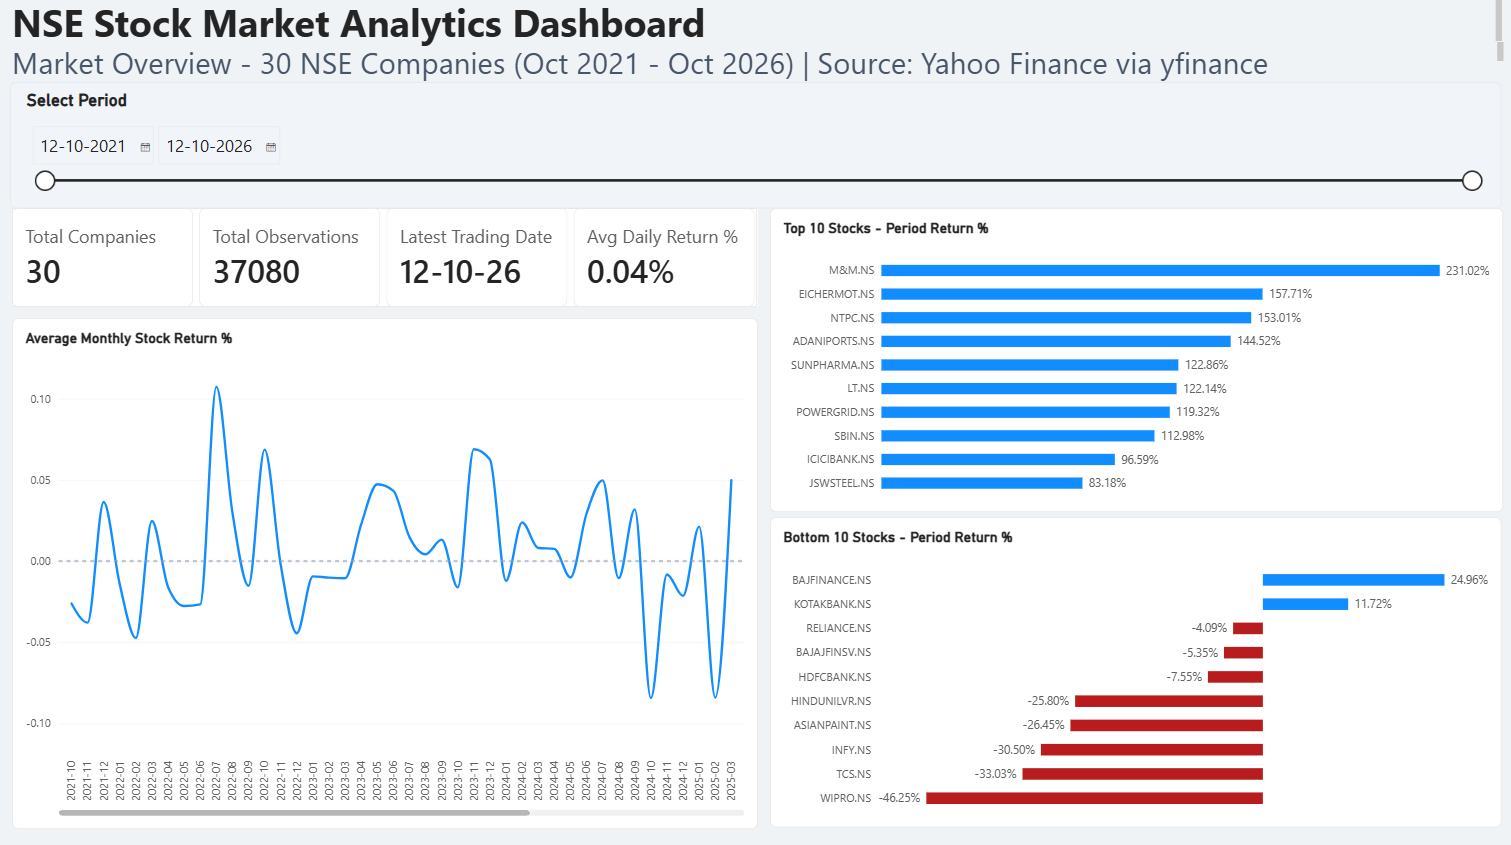

What the dashboard file says about the page in this screenshot:
{"tool":"powerbi","page":{"name":"Market Overview","canvas":[1920,1080],"ordinal":0},"visuals":[{"type":"cardVisual","fields":{"Data":["Measures (1).Total Companies","Measures (1).Total Observations","Measures (1).Latest Trading Date","Measures (1).Average Daily Return %"]},"box":[16.1,268.2,943.9,125],"z":0},{"type":"lineChart","title":"Average Monthly Stock Return %","fields":{"Category":["DateTable.Year-Month"],"Y":["Measures (1).Monthly Return %"]},"box":[16.1,407.4,943.9,647.4],"z":1000},{"type":"clusteredBarChart","title":"Top 10 Stocks - Period Return %","fields":{"Category":["stock_prices.ticker"],"Y":["Measures (1).Period Return %"]},"box":[976.1,268.2,927.7,385],"z":2000},{"type":"clusteredBarChart","title":"Bottom 10 Stocks - Period Return %","fields":{"Category":["stock_prices.ticker"],"Y":["Measures (1).Period Return %"]},"box":[976.1,659.5,925.7,393.3],"z":3000},{"type":"slicer","title":"Select Period","fields":{"Values":["DateTable.Date"]},"box":[13.7,109.5,1888.1,159.6],"z":4000},{"type":"textbox","box":[16.1,58.5,1887.7,50.4],"z":5000},{"type":"textbox","box":[16.8,0,1886.4,68.6],"z":6000}]}

Visuals, with their boxes in screenshot pixels (x1, y1, x2, y2), scaled from the page's 1920x1080 canvas onto the 1511x845 screenshot:
cardVisual - Measures (1).Total Companies x Measures (1).Total Observations: rect(13, 210, 756, 308)
"Average Monthly Stock Return %" lineChart: rect(13, 319, 756, 825)
"Top 10 Stocks - Period Return %" clusteredBarChart: rect(768, 210, 1498, 511)
"Bottom 10 Stocks - Period Return %" clusteredBarChart: rect(768, 516, 1497, 824)
"Select Period" slicer: rect(11, 86, 1497, 211)
textbox: rect(13, 46, 1498, 85)
textbox: rect(13, 0, 1498, 54)
